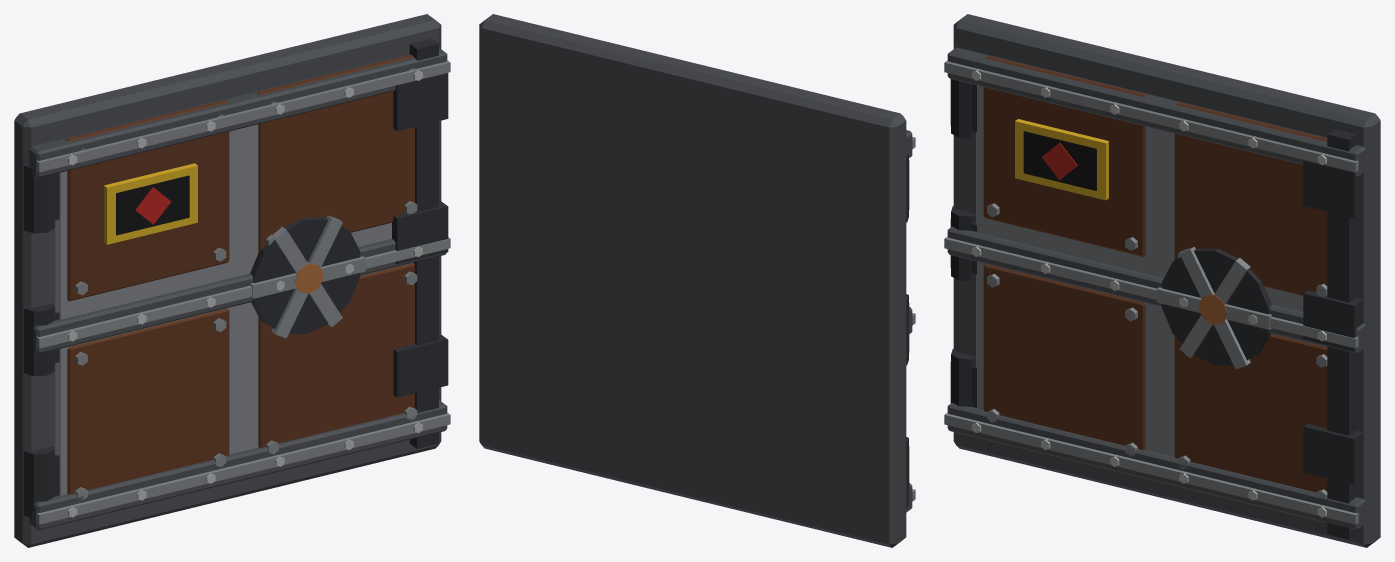
Rendered from prop_blast_door_reinforced.fbx.
The picture shows the model from 3 angles, left to right: view 1: azimuth 30°, elevation 25°; view 2: azimuth 150°, elevation 25°; view 3: azimuth 330°, elevation 25°; orthographic projection.
Visible parts, largest first — view 1: prop_blast_door_reinforced; view 2: prop_blast_door_reinforced; view 3: prop_blast_door_reinforced.
Part boxes in pixels (x1,y1,x2,y2): prop_blast_door_reinforced: (14,14,450,547); prop_blast_door_reinforced: (479,14,915,547); prop_blast_door_reinforced: (944,14,1380,547).
Size of the model in its own units: 2.3 by 2.25 by 0.245.
